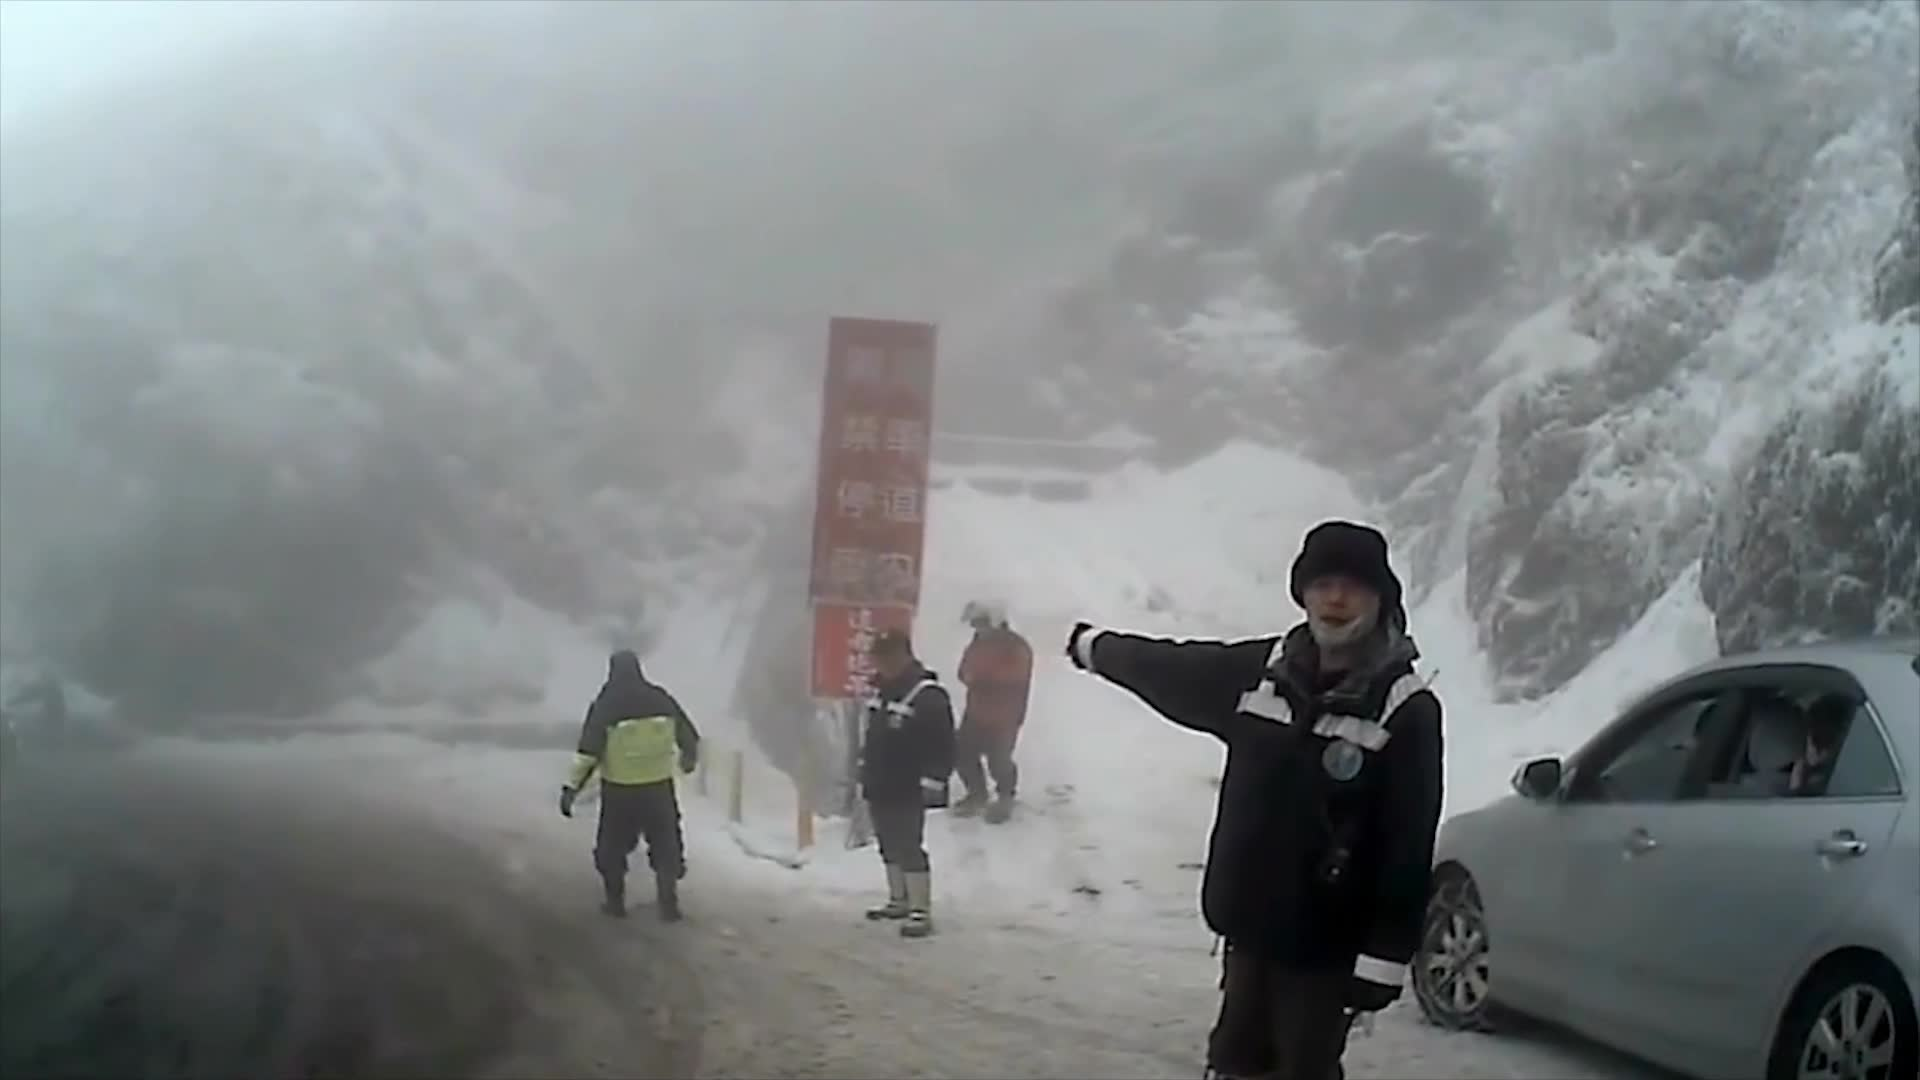pedestrian: (1063, 505, 1445, 1079), (566, 641, 707, 914), (855, 623, 959, 941), (954, 594, 1041, 819)
vehicle: (1400, 635, 1919, 1080)
